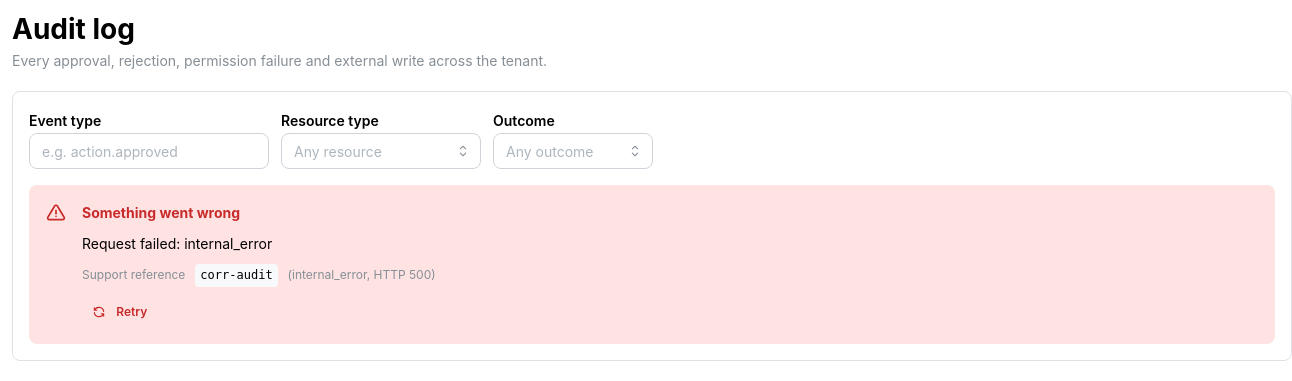
Test: <AuditLogPage> states › shows the error with its correlation id and retries
This screenshot has width=1292, height=381.
Check: the text "corr-audit" is shown, box [195, 264, 278, 287]
Click the button "Retry" at (122, 312), box [82, 297, 162, 327]
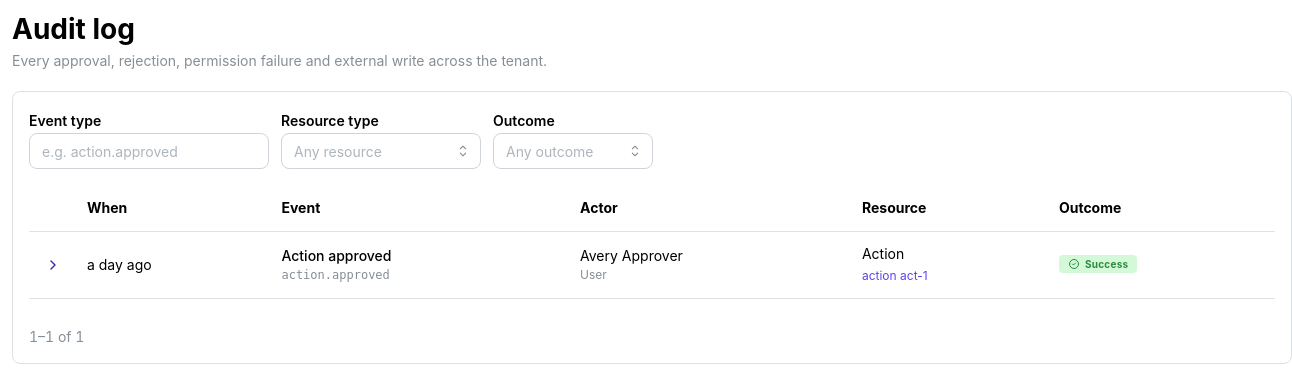
Check: the table named "Audit events" is shown, box [29, 185, 1275, 299]
